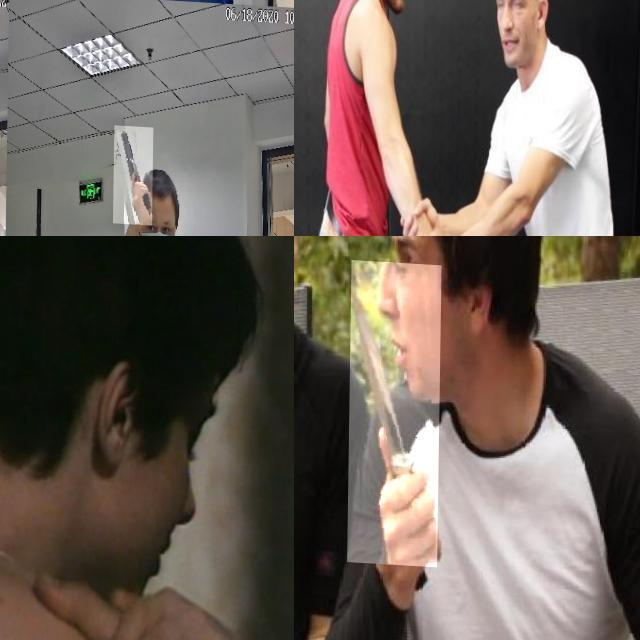-: (348, 256, 442, 562)
gun-knife-thesis - v11 Yolov5 augmented: (0, 324, 128, 599), (114, 120, 154, 220), (86, 0, 118, 49), (0, 181, 21, 236), (0, 0, 15, 40)
